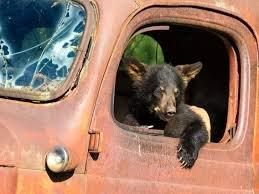bear: (119, 56, 210, 169)
